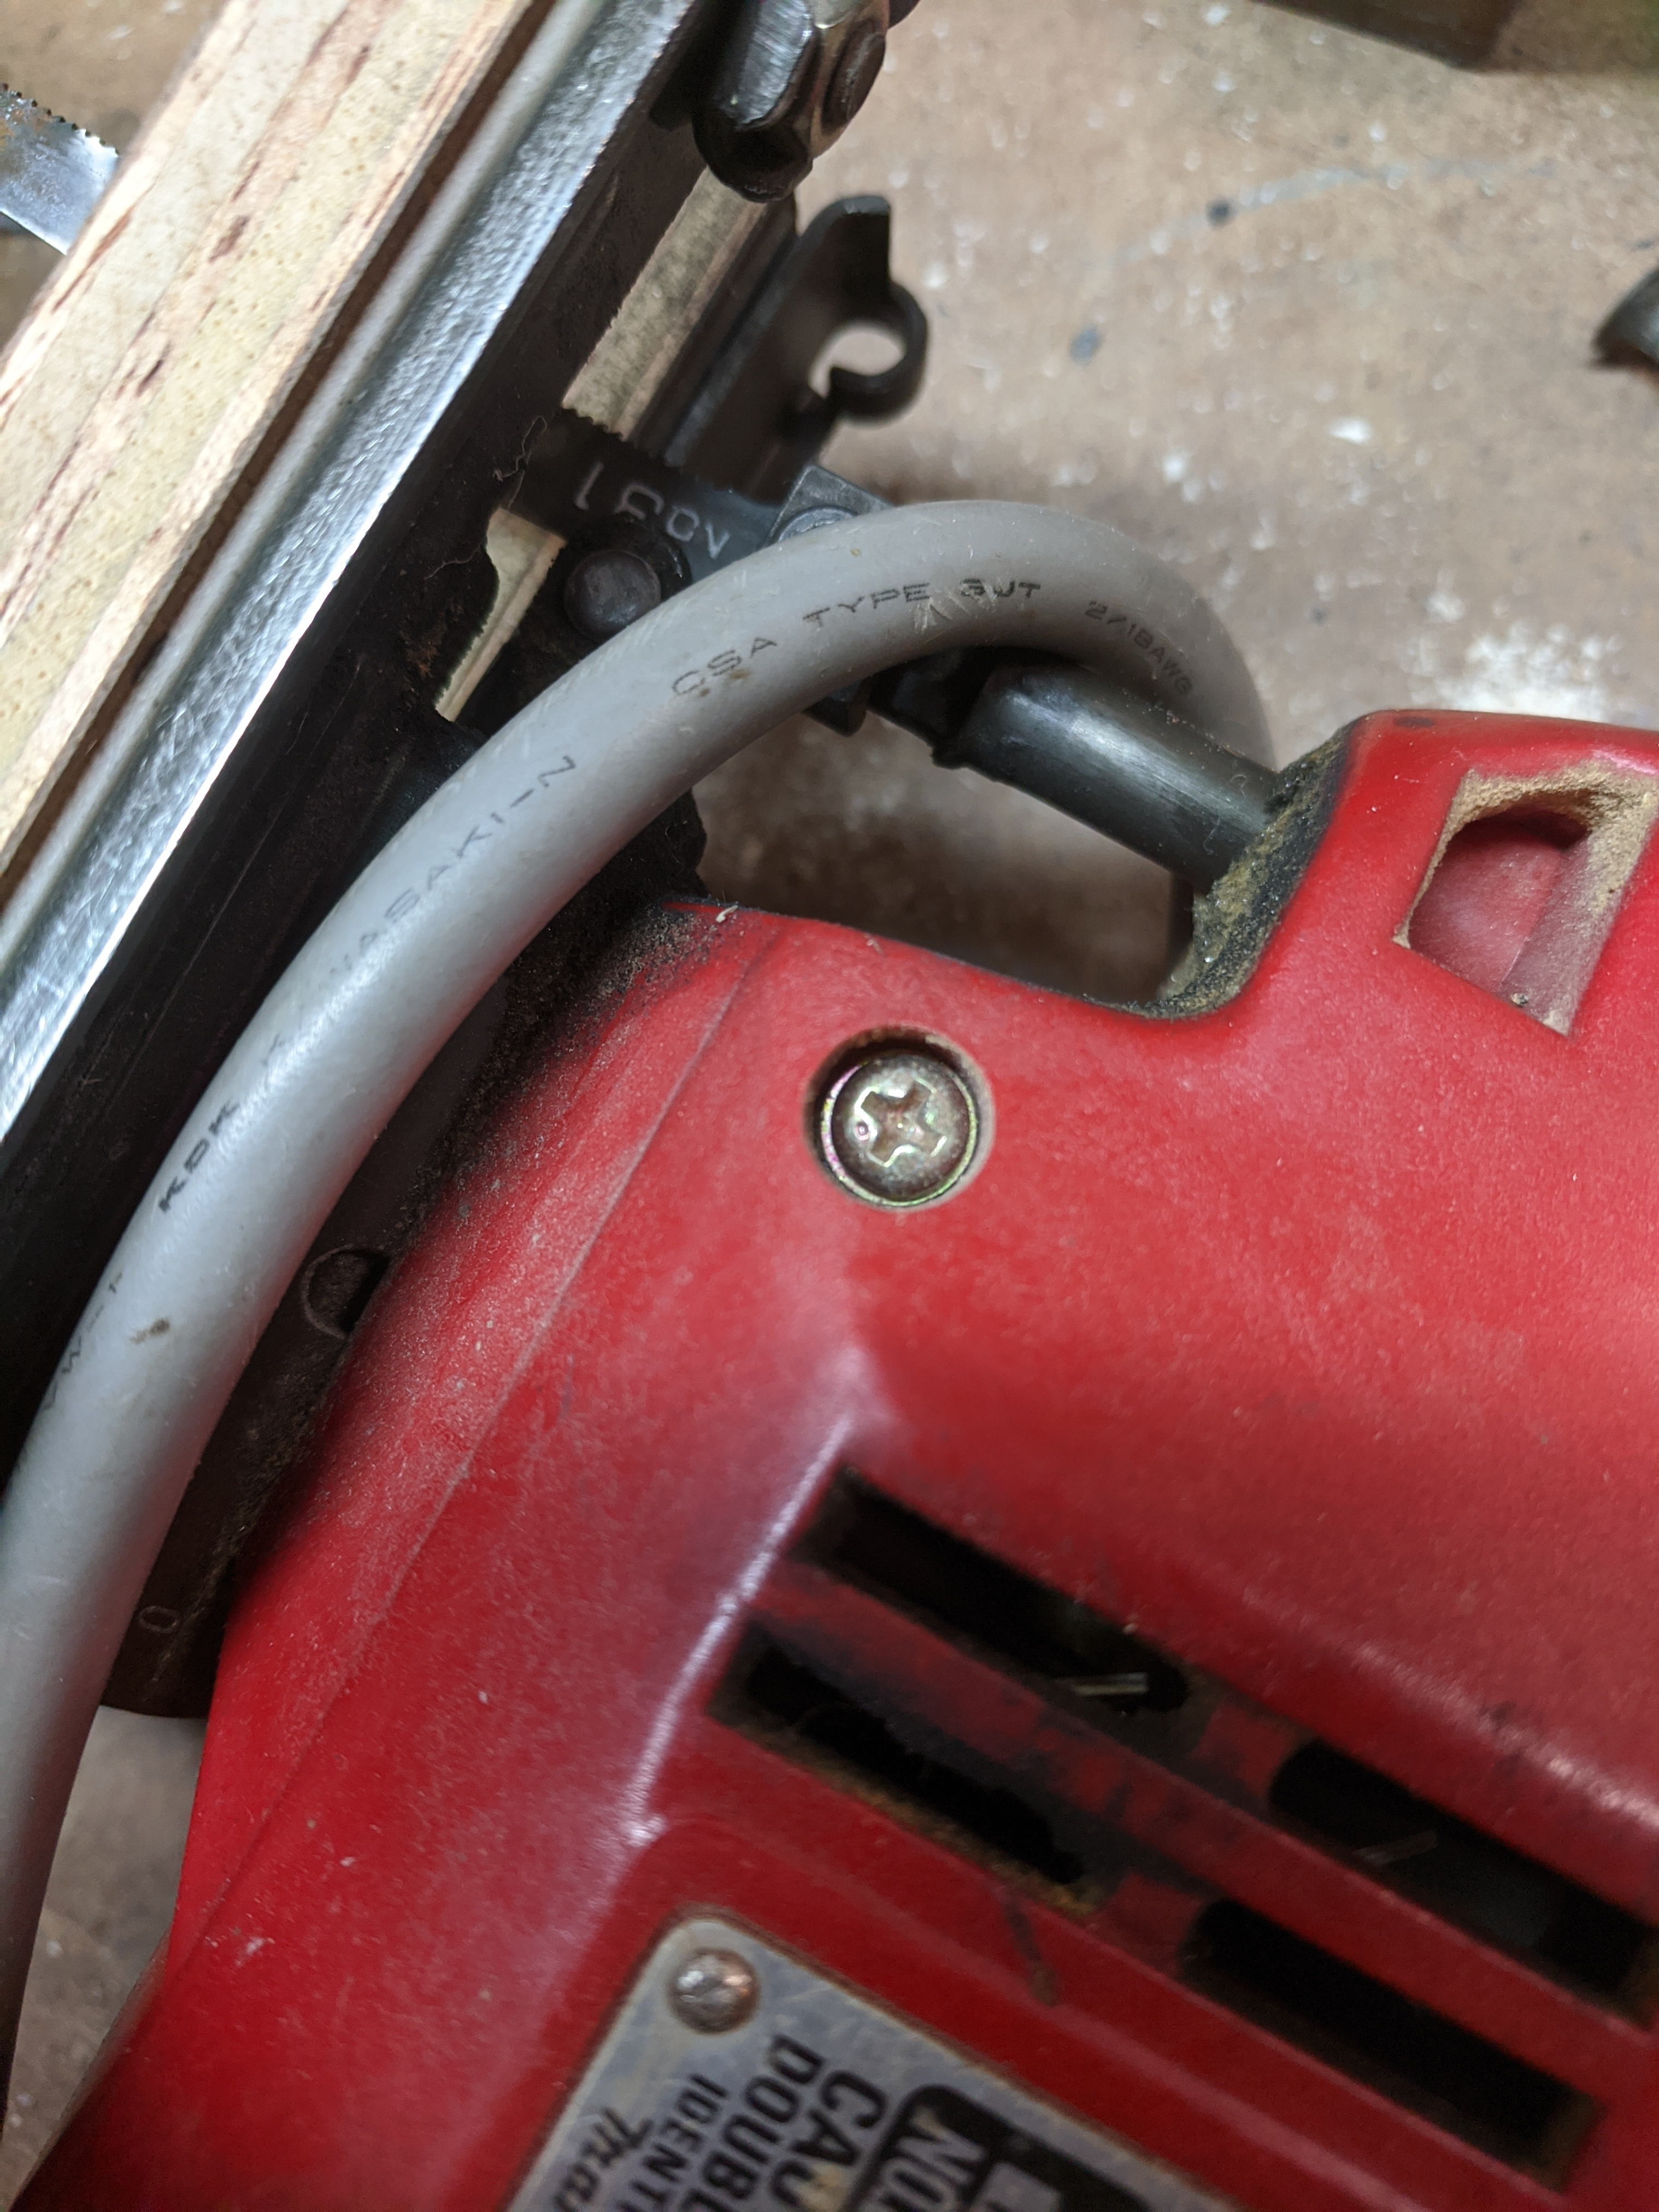cross_recessed_screw: (821, 1040, 986, 1205)
